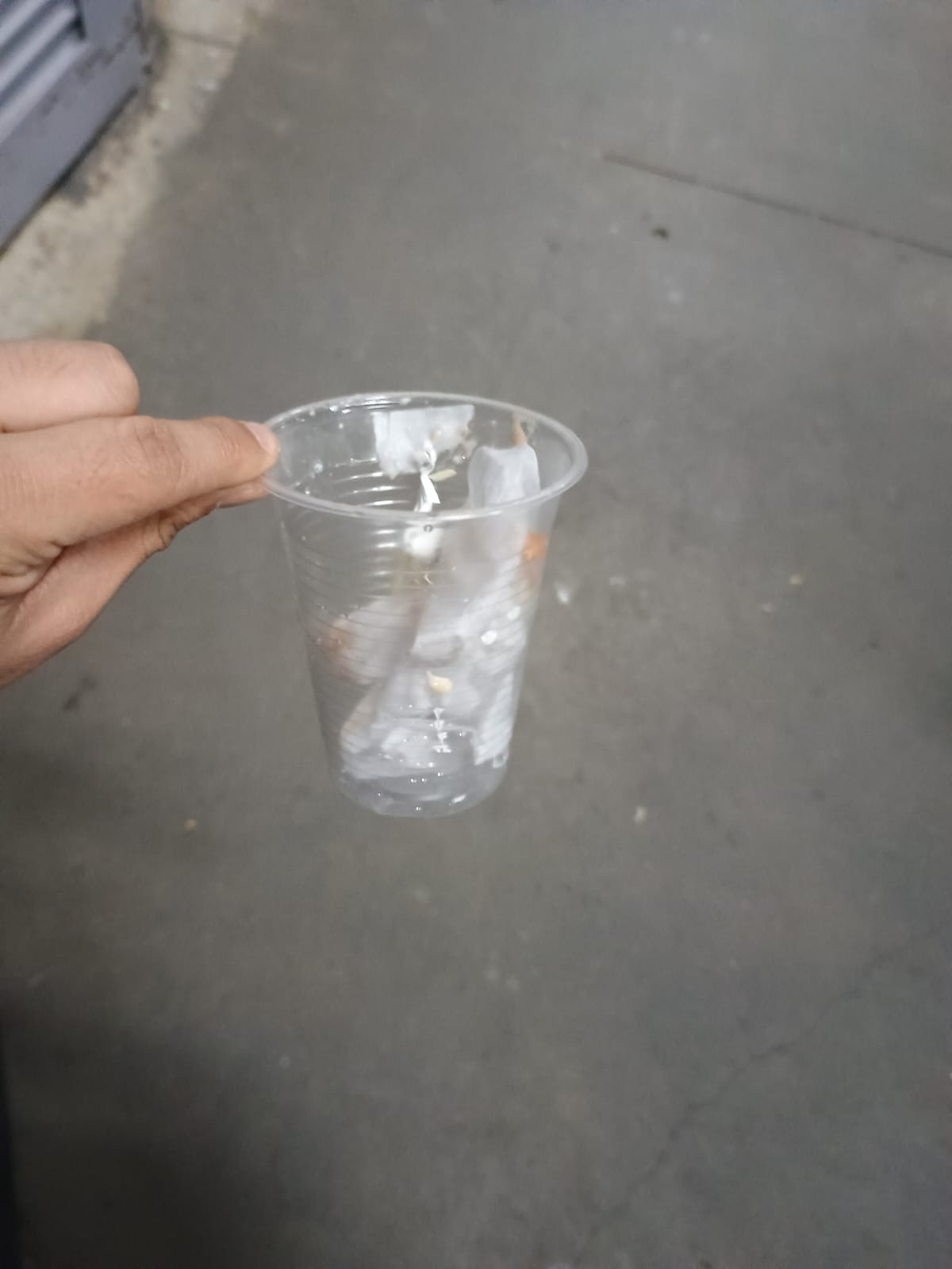Plastico: (248, 395, 593, 823)
